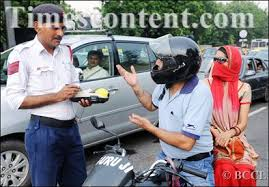helmet: (142, 29, 204, 89)
